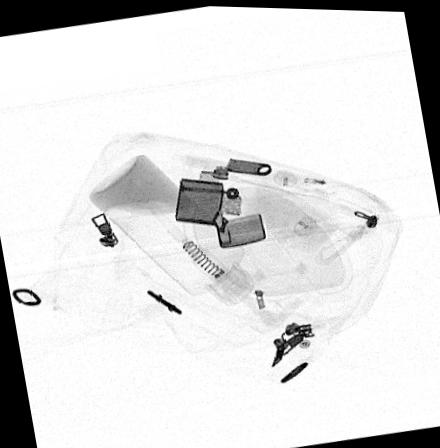Lighter: (173, 176, 265, 246)
